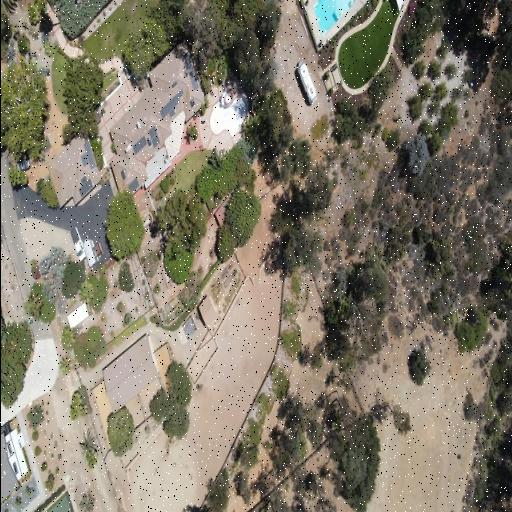solar-panel: (160, 88, 183, 120), (183, 52, 199, 92), (81, 140, 96, 170), (78, 176, 93, 198), (132, 136, 147, 155), (148, 125, 160, 148), (128, 177, 139, 194)
